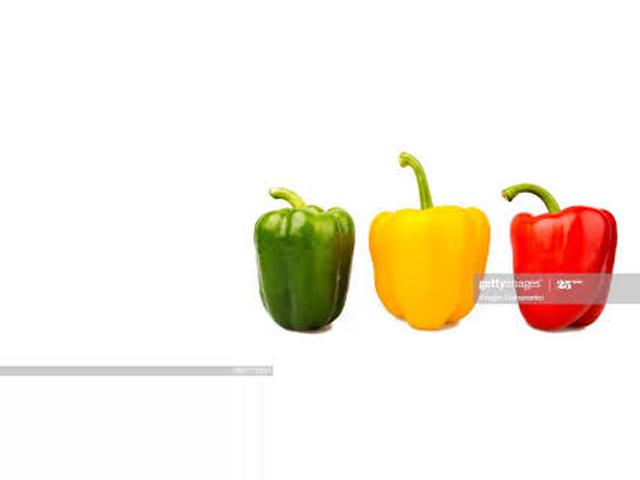bell_pepper: (240, 167, 349, 341)
